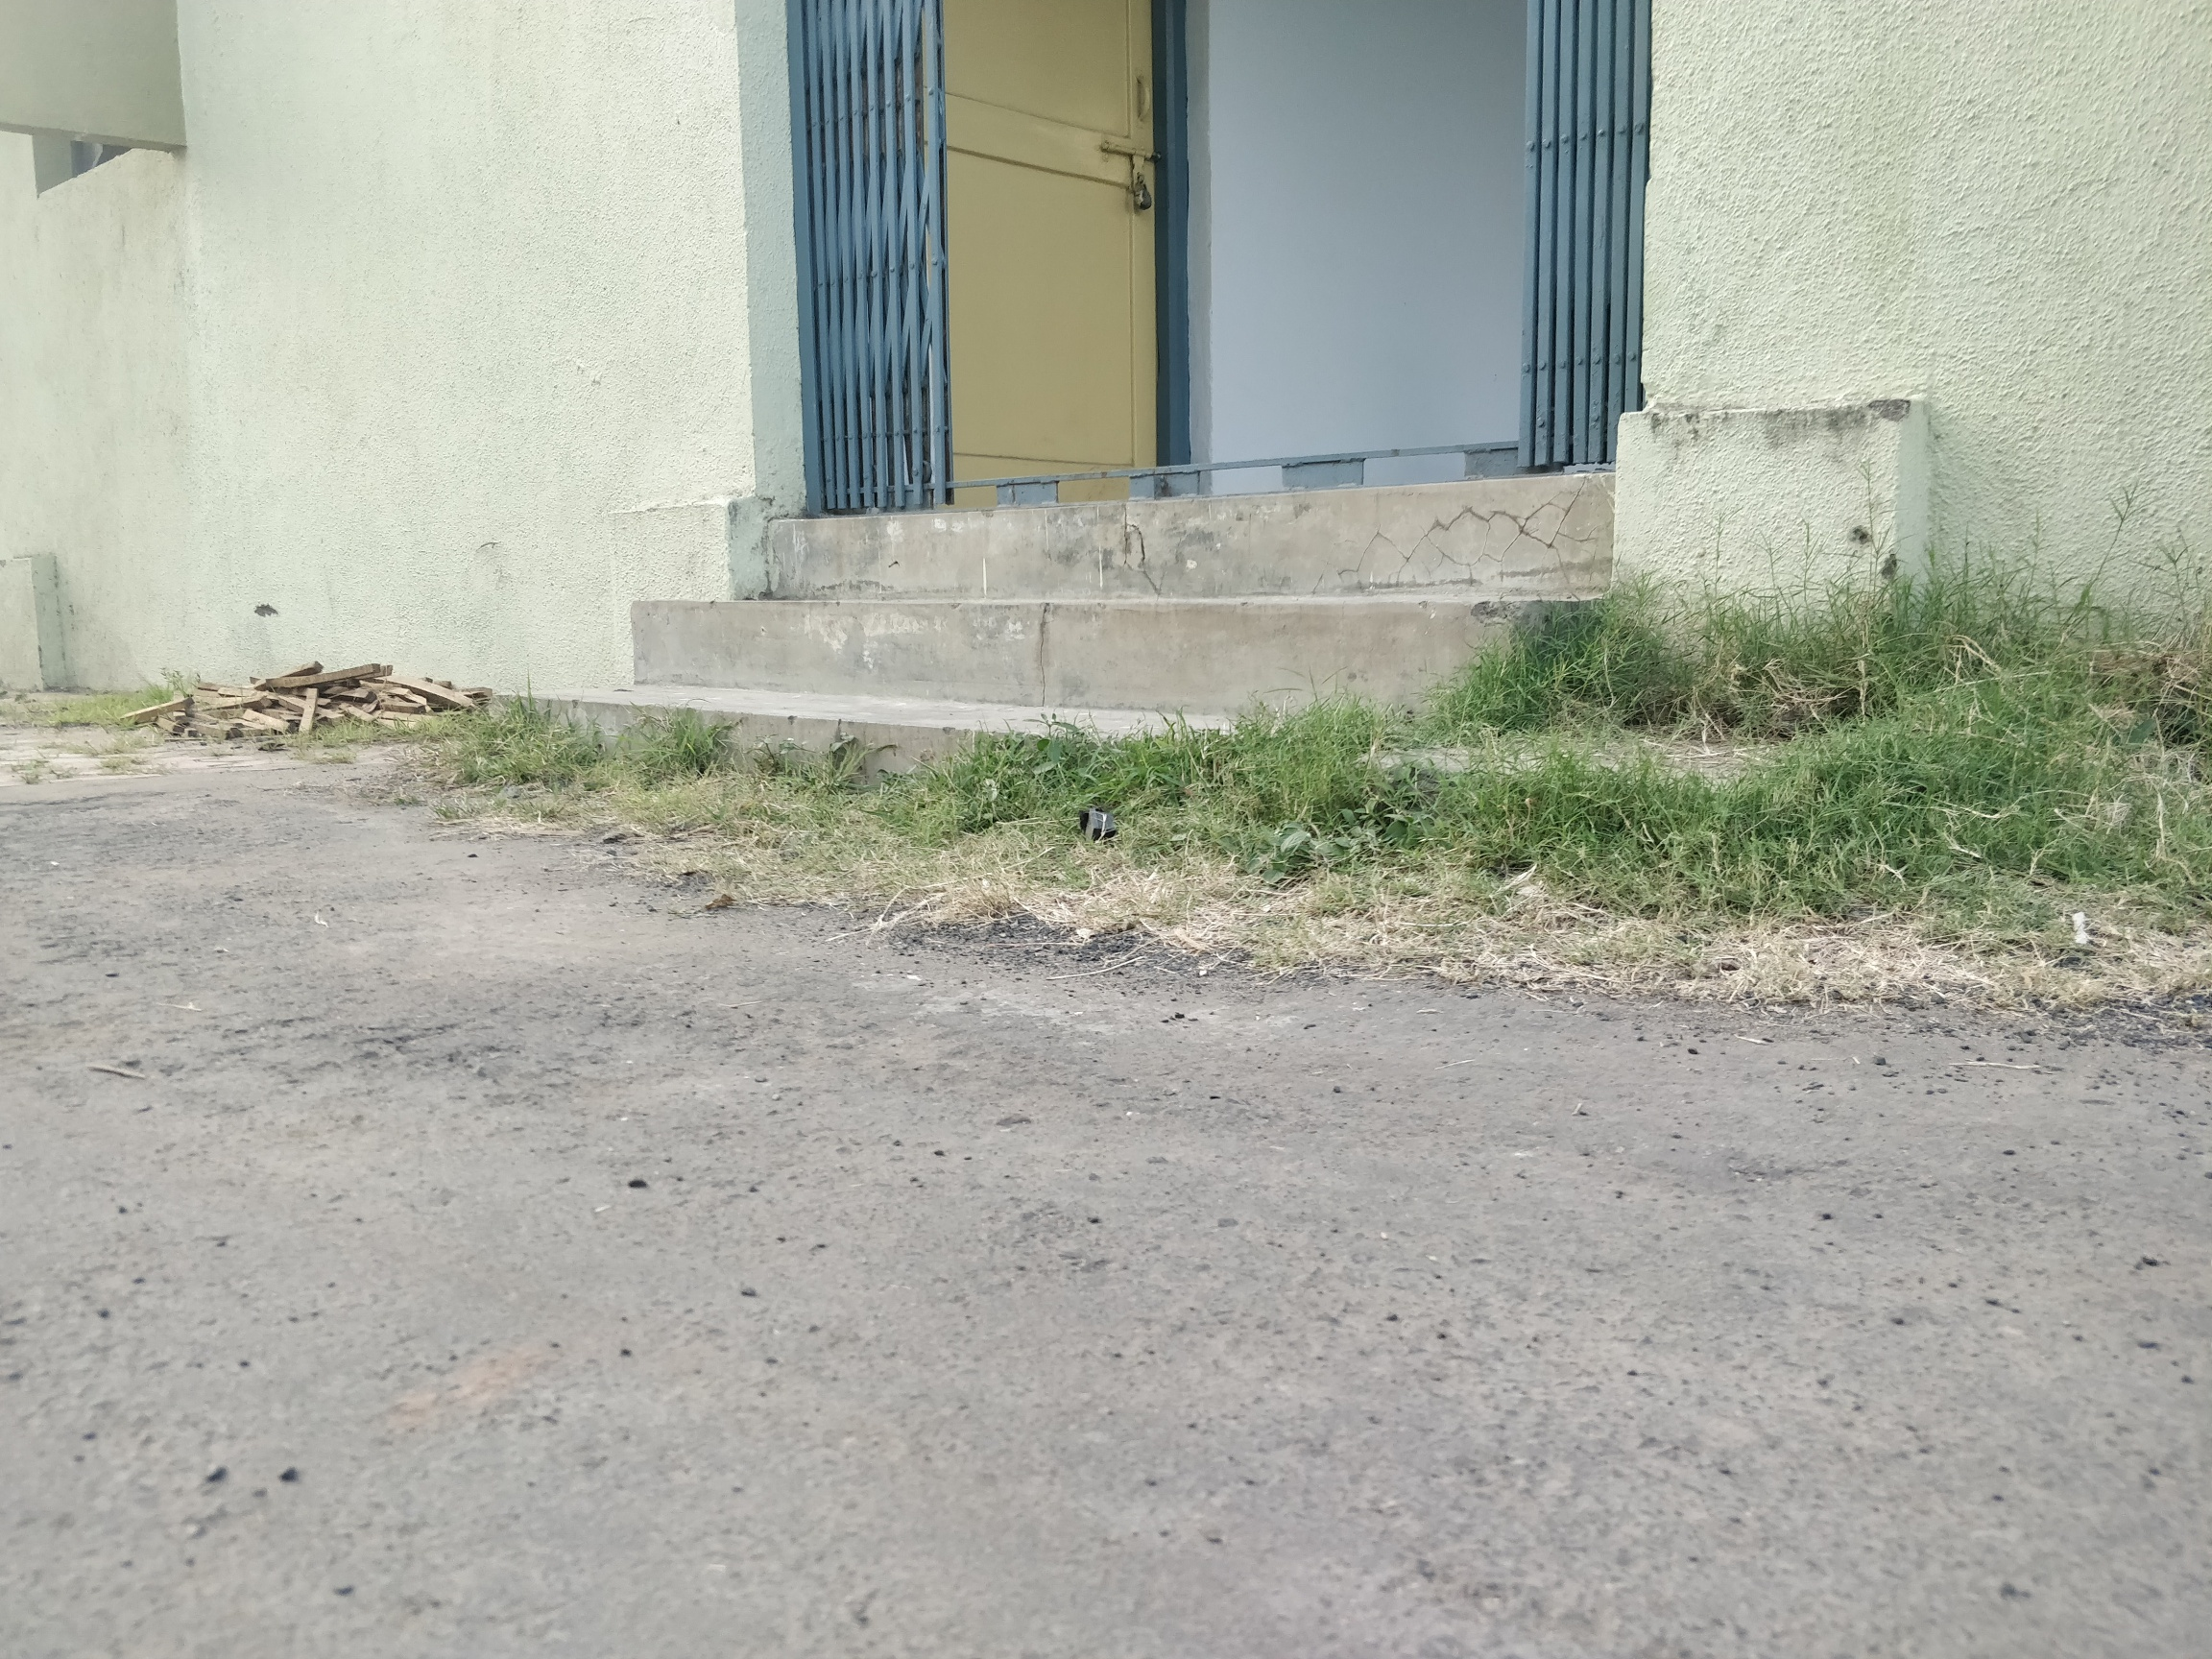stairs_up: (495, 465, 1611, 803)
